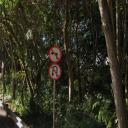NoVirarEsquerda: (48, 46, 62, 63)
NoVirarU: (48, 64, 61, 80)
